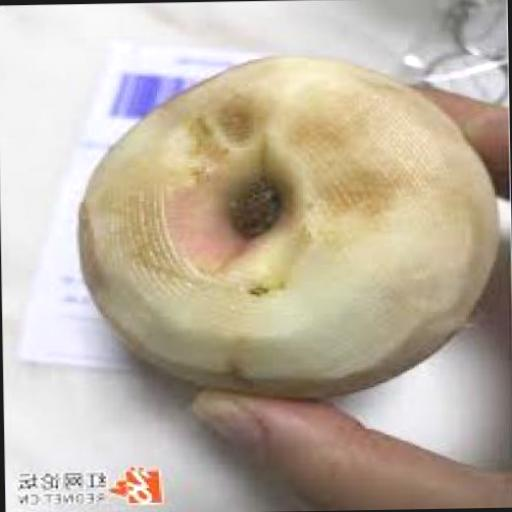biodegradable: (77, 48, 504, 390)
